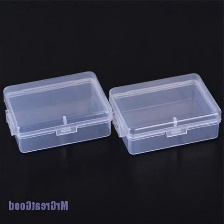plastic_box: (0, 64, 119, 158), (103, 66, 223, 159)
